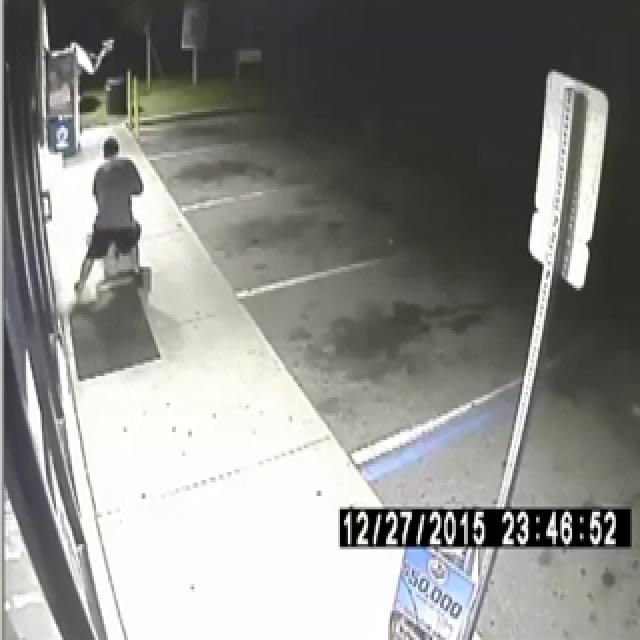vandalism: (52, 72, 254, 448)
